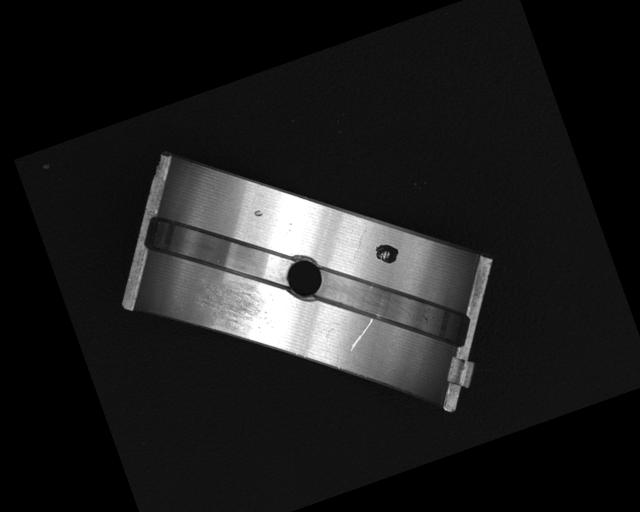blot: (372, 239, 402, 269)
bruise: (253, 208, 264, 219)
gap: (308, 230, 479, 389), (136, 178, 295, 321)
hole: (276, 249, 328, 305)
nick: (341, 316, 381, 352), (345, 225, 376, 262)
scratch: (191, 266, 285, 360)
